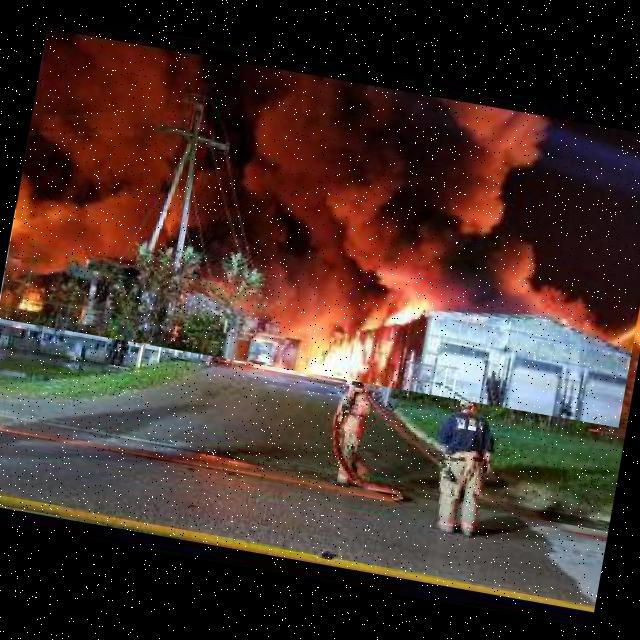fire: (0, 19, 640, 427)
